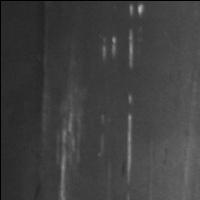scratches: (99, 2, 147, 72), (54, 114, 84, 200), (119, 93, 136, 185)
